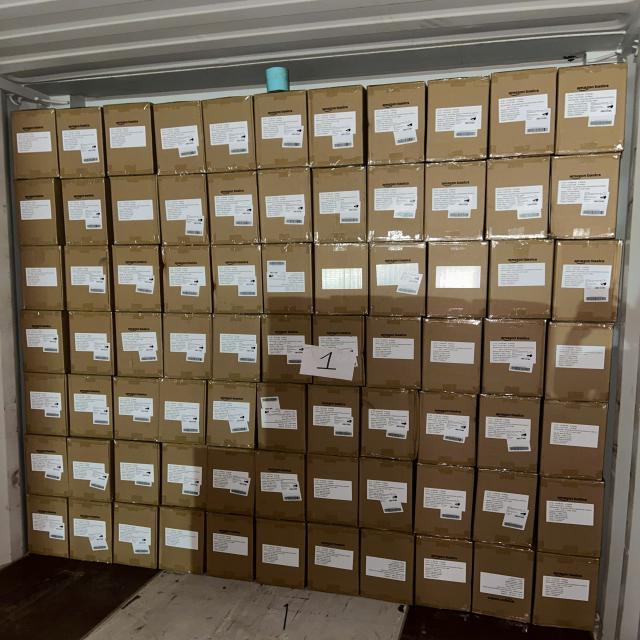Carton: (557, 64, 628, 154), (550, 157, 620, 243), (490, 70, 554, 160), (554, 242, 623, 325), (547, 320, 612, 403), (488, 158, 553, 241), (540, 477, 606, 558), (488, 242, 553, 323), (543, 400, 608, 480), (426, 76, 486, 162), (534, 552, 599, 631), (426, 162, 488, 244), (471, 541, 532, 624), (482, 317, 543, 397), (427, 243, 488, 322), (476, 469, 536, 549), (478, 393, 538, 471), (420, 316, 479, 394), (366, 82, 422, 164), (415, 461, 472, 539), (366, 168, 422, 246), (416, 536, 472, 614), (311, 87, 364, 168), (419, 394, 476, 469), (365, 317, 421, 392), (313, 170, 367, 247), (368, 244, 424, 318), (358, 388, 415, 460), (256, 92, 309, 169), (360, 532, 413, 608), (261, 167, 313, 244), (314, 244, 369, 316), (359, 459, 411, 535), (205, 97, 256, 174), (208, 171, 259, 245), (309, 524, 360, 597), (154, 102, 204, 176), (316, 314, 366, 388), (110, 174, 161, 246), (309, 456, 360, 528), (161, 173, 211, 246), (257, 381, 307, 453), (310, 384, 360, 456), (264, 316, 314, 388), (256, 520, 306, 591), (107, 106, 155, 179), (264, 244, 314, 314), (256, 451, 306, 521), (207, 382, 256, 452), (212, 246, 262, 314), (207, 448, 255, 518), (58, 105, 104, 178), (162, 314, 212, 381), (213, 315, 262, 383), (10, 107, 56, 179), (61, 176, 108, 246), (166, 246, 214, 314), (114, 247, 163, 313), (207, 516, 254, 584), (116, 312, 164, 378), (158, 380, 205, 446), (65, 247, 112, 313), (12, 178, 58, 245), (158, 508, 202, 577), (68, 311, 114, 376), (114, 378, 160, 442), (160, 446, 206, 510), (20, 247, 65, 312), (22, 314, 67, 378), (68, 375, 112, 440), (67, 440, 112, 503), (23, 435, 68, 498), (114, 506, 158, 570), (116, 442, 160, 506), (23, 372, 67, 436), (67, 503, 110, 568), (30, 498, 70, 562)
